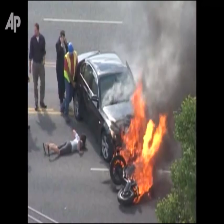fire: (121, 118, 157, 194)
smoke: (146, 8, 195, 96)
